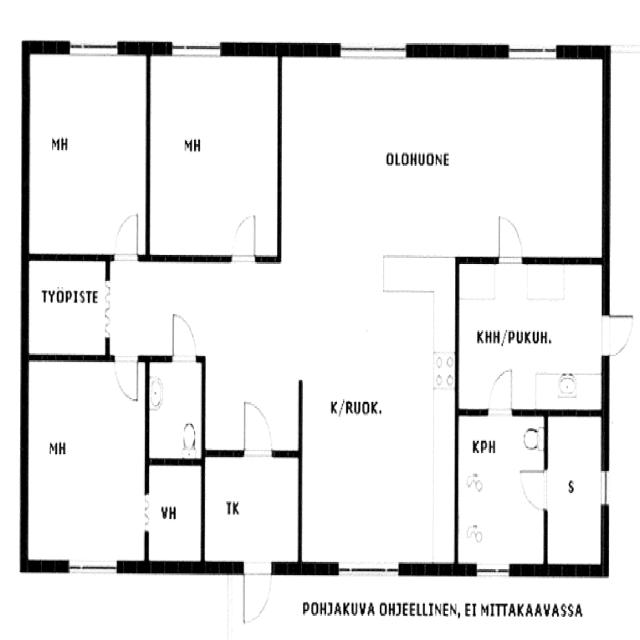door: (456, 414, 550, 568), (146, 356, 203, 463), (237, 556, 276, 628), (238, 394, 278, 462), (166, 304, 202, 367), (598, 306, 637, 362), (227, 206, 261, 266), (516, 463, 552, 518), (494, 210, 526, 270), (110, 205, 142, 265), (484, 364, 517, 422), (112, 350, 142, 406)
window: (333, 35, 412, 67), (61, 550, 126, 584), (502, 34, 563, 70), (63, 31, 125, 65), (332, 555, 403, 583), (167, 33, 226, 64), (469, 558, 514, 581), (598, 463, 614, 513)
zone: (283, 51, 605, 261), (303, 260, 459, 576), (147, 50, 280, 258), (23, 353, 147, 567), (25, 46, 150, 256), (456, 255, 604, 413), (454, 410, 548, 568), (202, 453, 302, 567), (544, 413, 606, 570), (24, 254, 108, 358), (146, 461, 204, 569), (148, 357, 204, 463)
